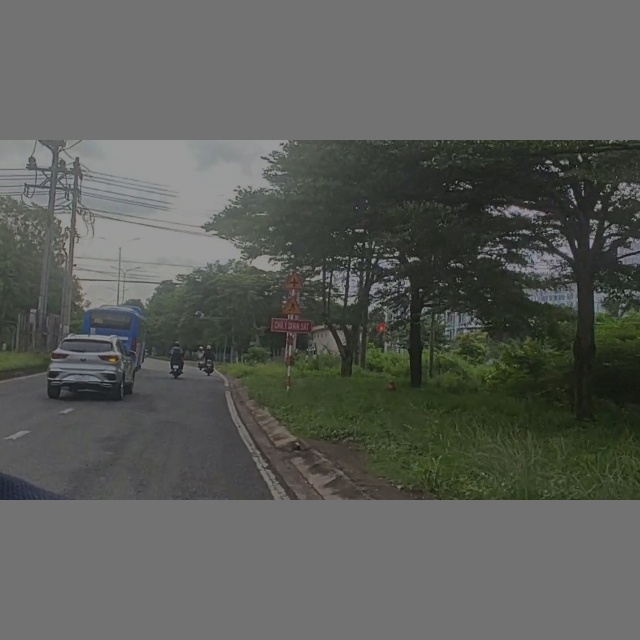W.205a: (282, 271, 306, 291)
W.224: (280, 297, 304, 315)
